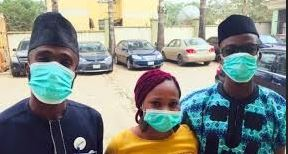with_facemask: (25, 62, 81, 105), (221, 55, 266, 91), (141, 106, 186, 137)
